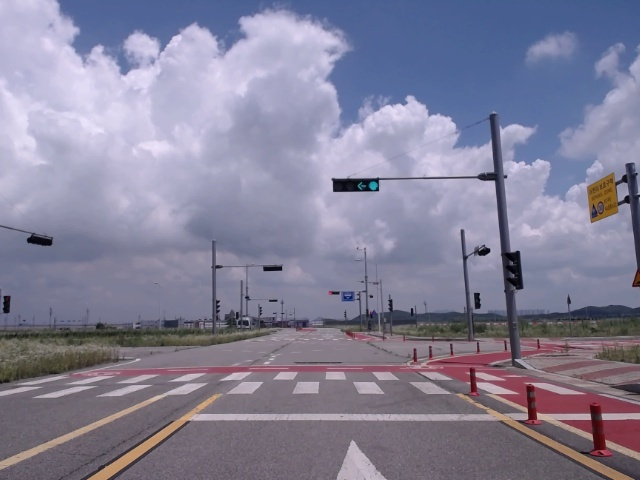all_green_4: (328, 176, 382, 192)
